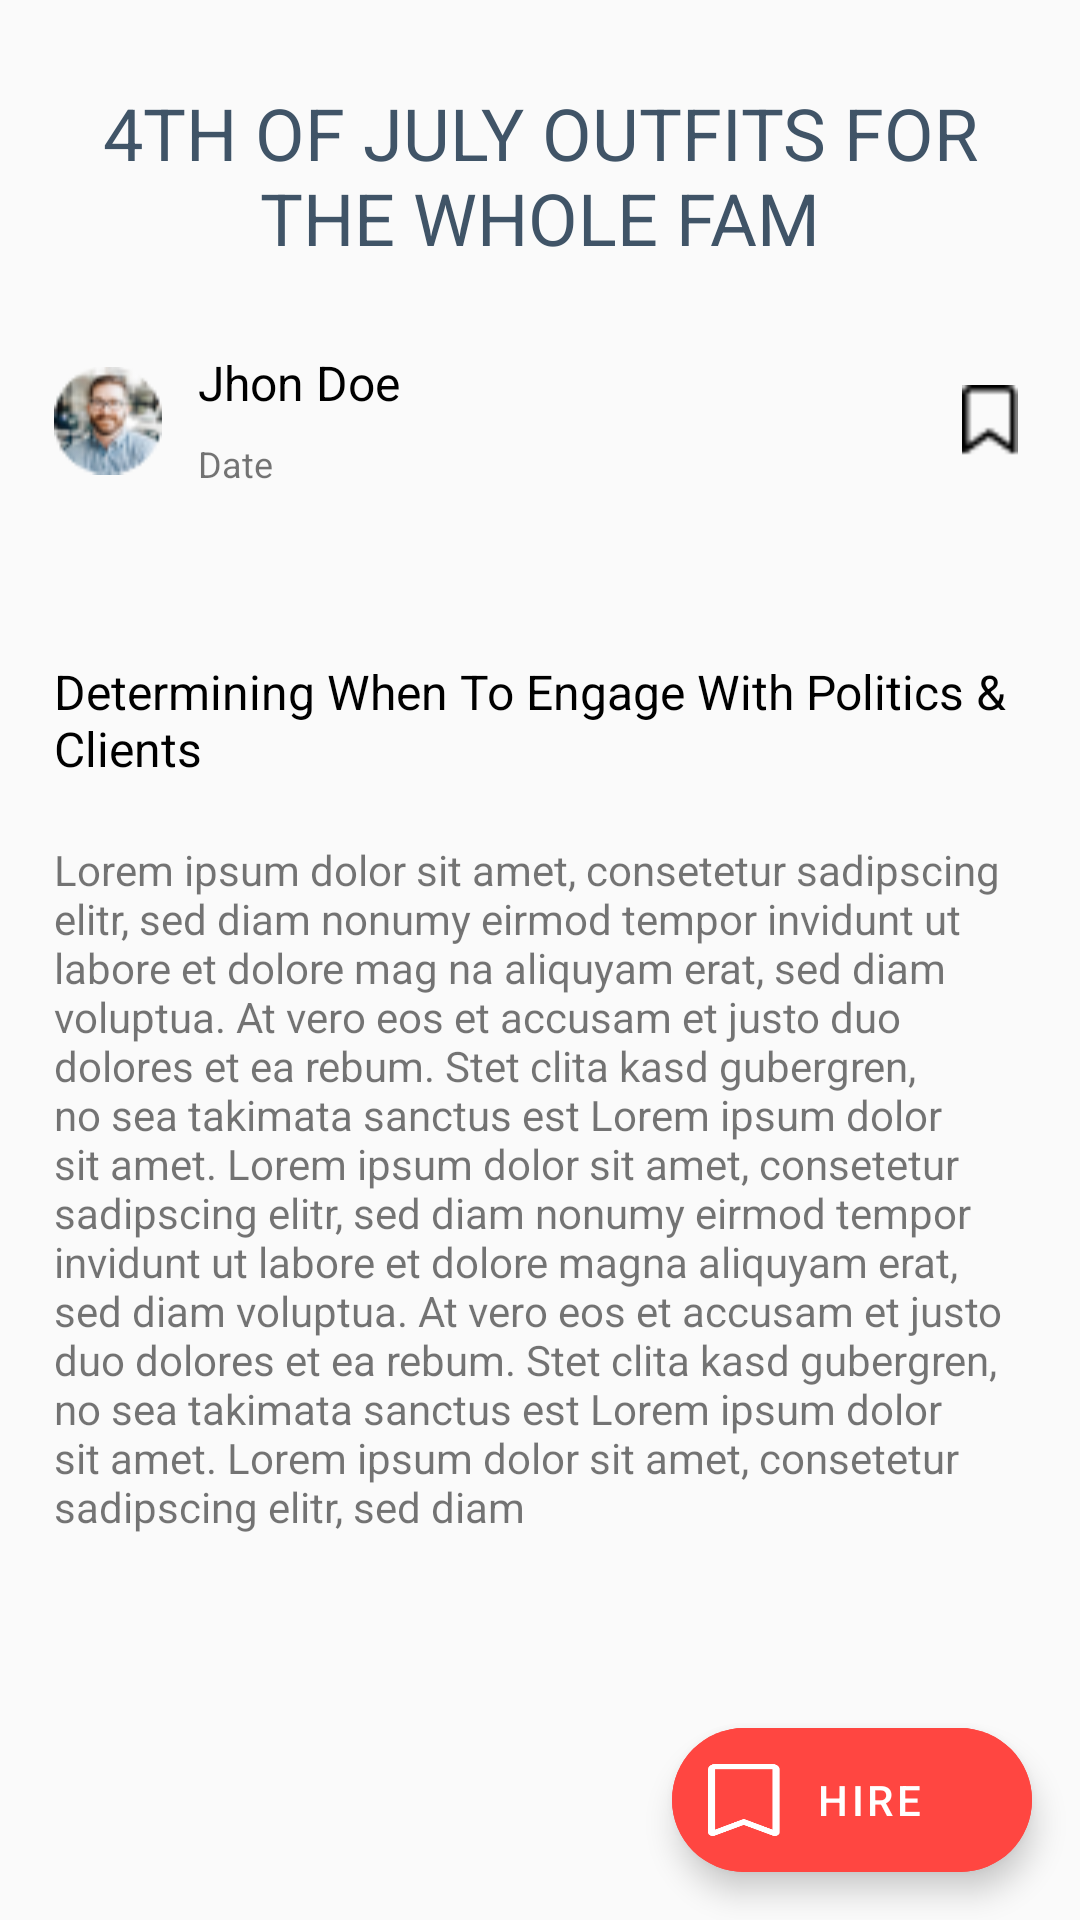

Locate icon controls on the screen. Image size 1080w x 1920h, boxes as bbox=(x1, y1, x2, y2).
feather bookmark: bbox=(962, 385, 1018, 455)
